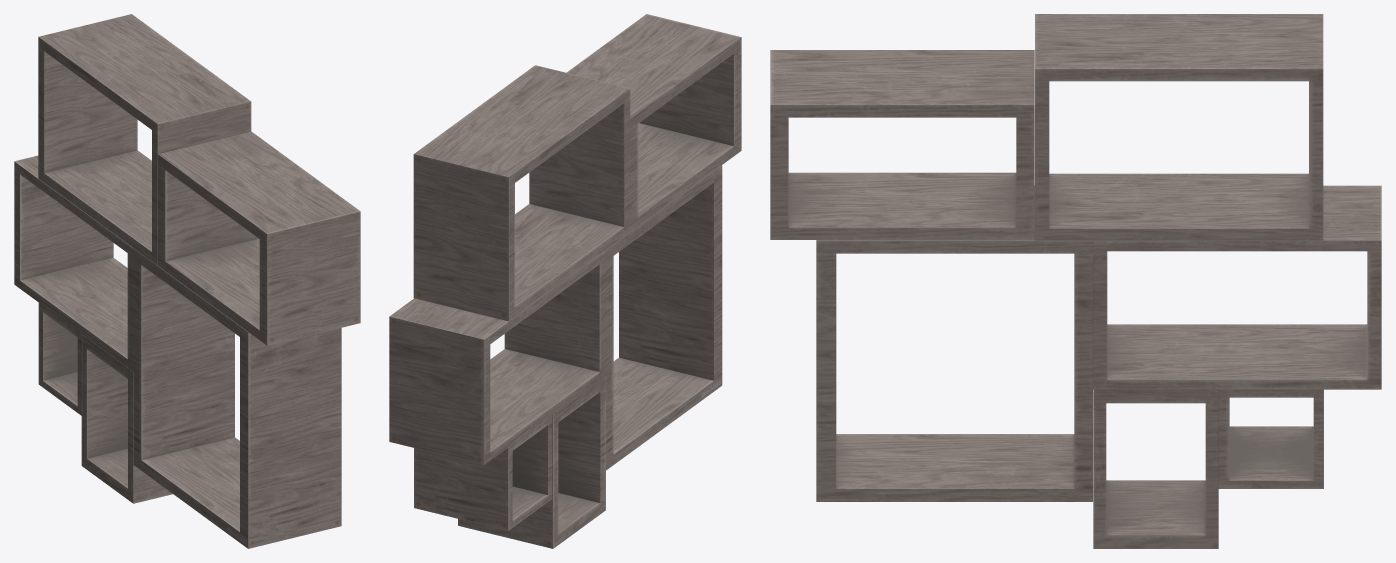
The model's file is SM_ShelvesMultipleS.fbx.
3 renders of one model, left to right at view 1: azimuth 30°, elevation 25°; view 2: azimuth 150°, elevation 25°; view 3: azimuth 270°, elevation 25°, orthographic. The views are drawn at different scales.
Parts seen in each view (by area): view 1: SM_ShelvesMultipleS_LOD0; view 2: SM_ShelvesMultipleS_LOD0; view 3: SM_ShelvesMultipleS_LOD0.
Boxes of the visible parts, left/top/right/bottom form: SM_ShelvesMultipleS_LOD0: left=14, top=14, right=360, bottom=548; SM_ShelvesMultipleS_LOD0: left=389, top=14, right=741, bottom=548; SM_ShelvesMultipleS_LOD0: left=770, top=14, right=1381, bottom=548.
Size of the model in its own units: 39.34 by 184 by 159.
1 material, 1 textured.
